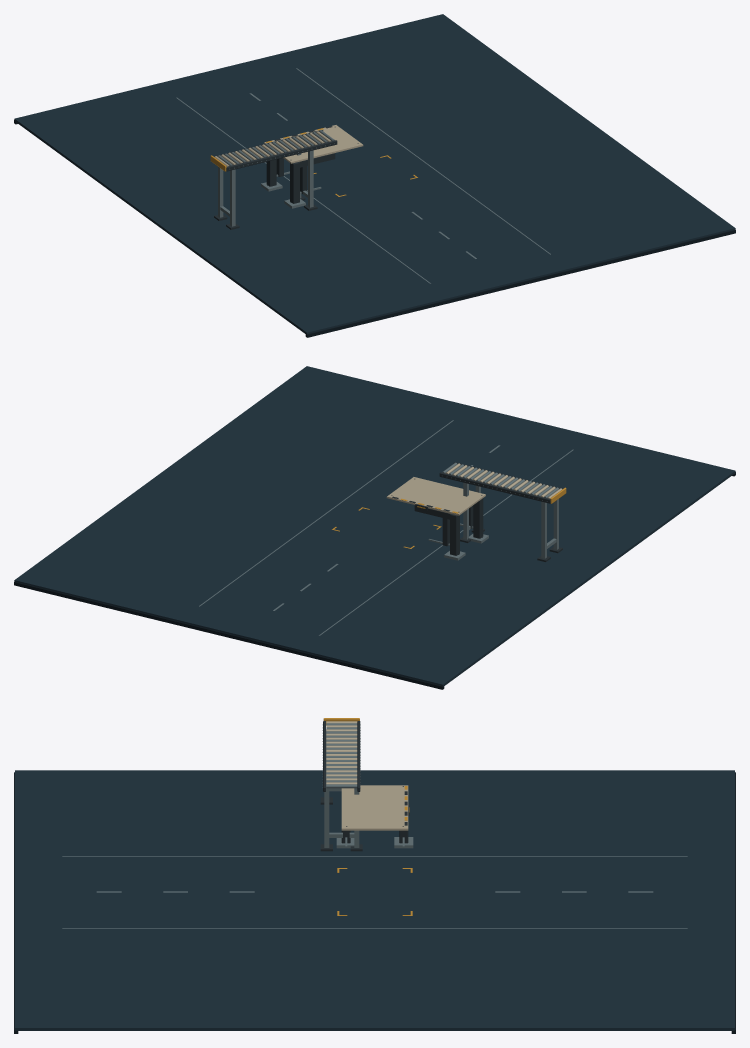
Rendered from station_d0_lod0.glb.
3 renders of one model, top to bottom at view 1: azimuth 30°, elevation 25°; view 2: azimuth 150°, elevation 25°; view 3: azimuth 270°, elevation 25°, orthographic. The views are drawn at different scales.
Parts seen in each view (by area): view 1: STATION_SURFACE; view 2: STATION_SURFACE; view 3: STATION_SURFACE.
Boxes of the visible parts, x1=… form: STATION_SURFACE: x1=14, y1=14, x2=735, y2=337; STATION_SURFACE: x1=14, y1=366, x2=735, y2=689; STATION_SURFACE: x1=14, y1=718, x2=735, y2=1033.
Bounding box in the file's own units: 11 × 1.69 × 13.04.
